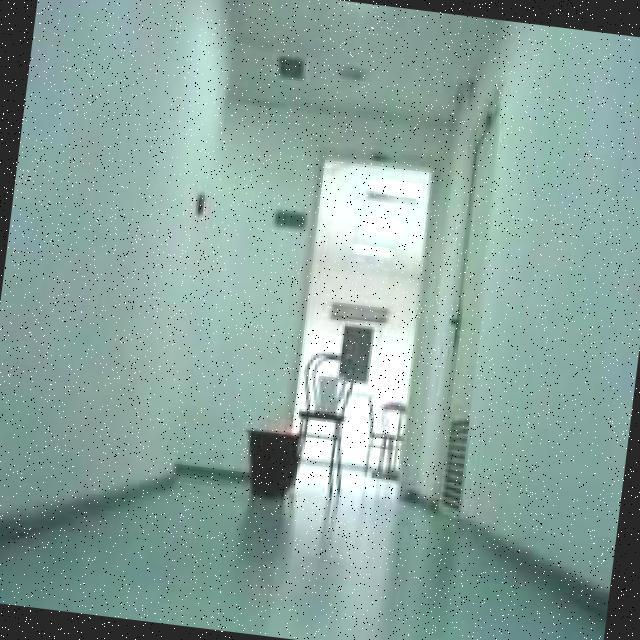Fire: (277, 421, 285, 432)
